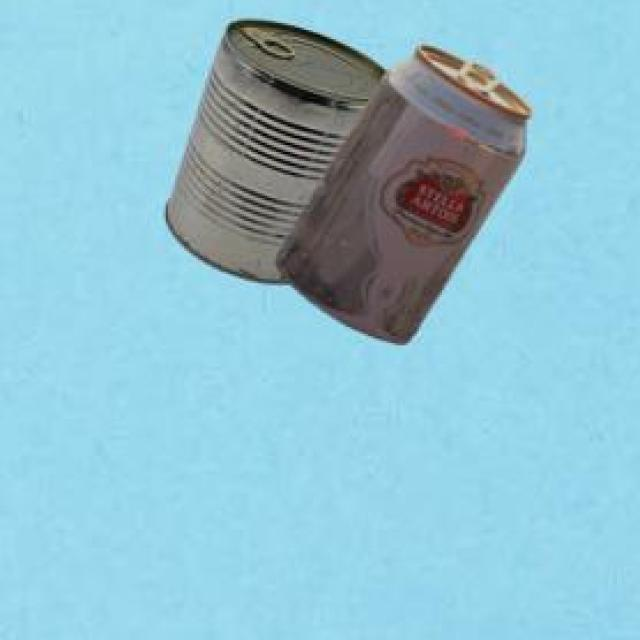logam: (273, 40, 528, 340), (162, 17, 383, 280)
